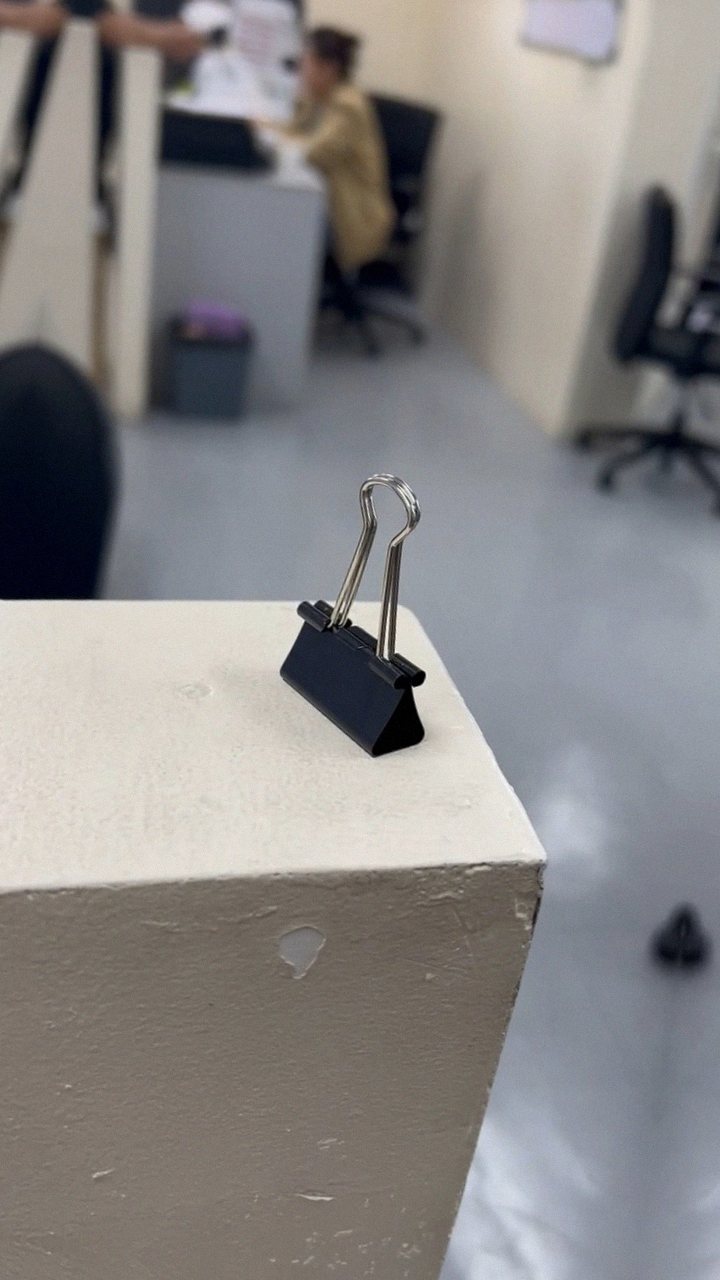kep_giay: (257, 459, 467, 769)
